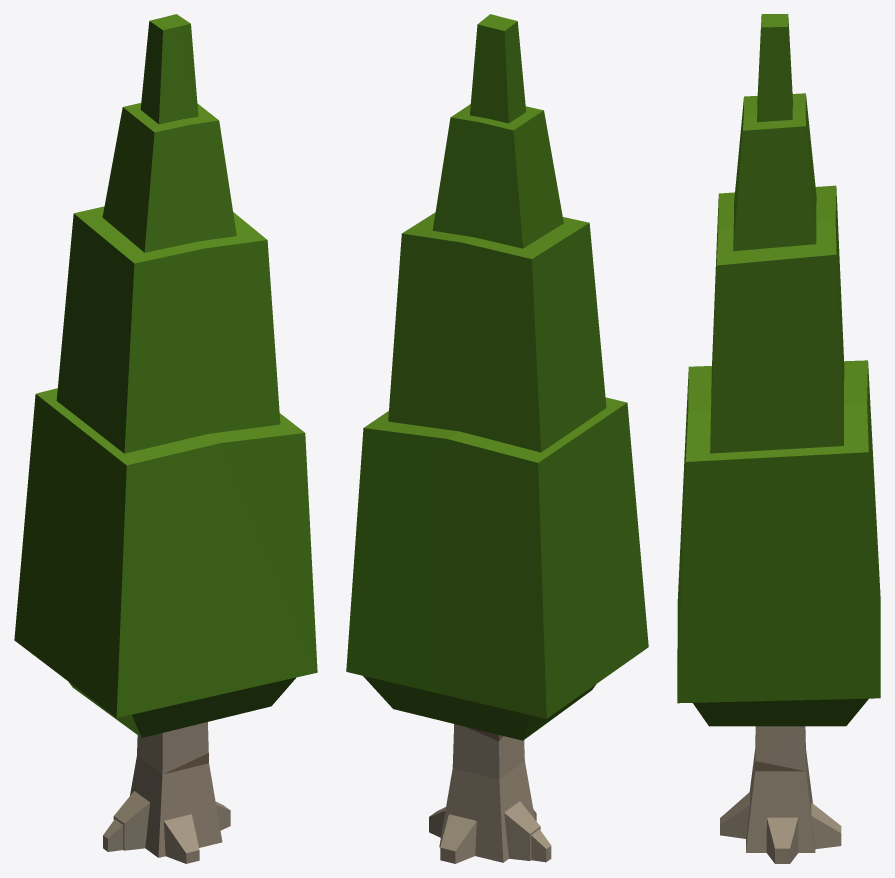
File: Model_Horde_1x1A.fbx
3 views of the same model, side by side, from view 1: azimuth 30°, elevation 25°; view 2: azimuth 150°, elevation 25°; view 3: azimuth 270°, elevation 25° (orthographic).
Visible parts, largest first — view 1: Model_Frost_1x1A; view 2: Model_Frost_1x1A; view 3: Model_Frost_1x1A.
Part boxes in pixels (x1=…): Model_Frost_1x1A: x1=14, y1=14, x2=317, y2=863; Model_Frost_1x1A: x1=346, y1=14, x2=648, y2=863; Model_Frost_1x1A: x1=677, y1=14, x2=880, y2=863.
Bounding box in the file's own units: 95.86 × 373 × 84.55.
1 material, 1 textured.
